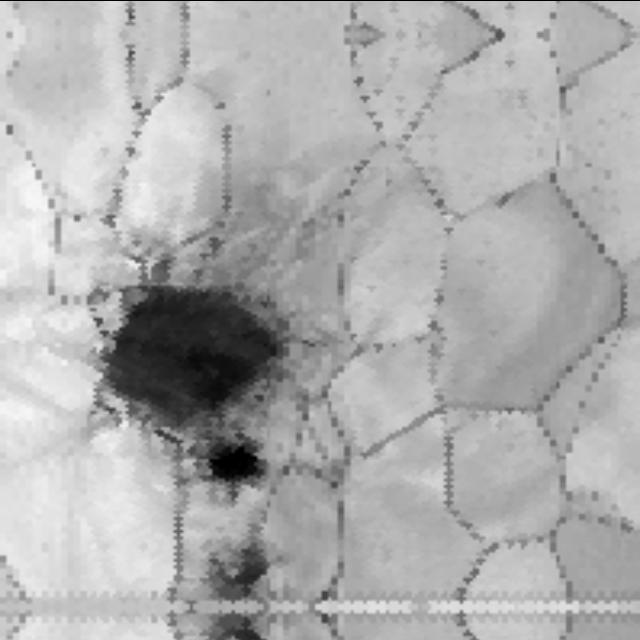good_void: (59, 232, 313, 513), (192, 515, 275, 608), (195, 607, 273, 640)
